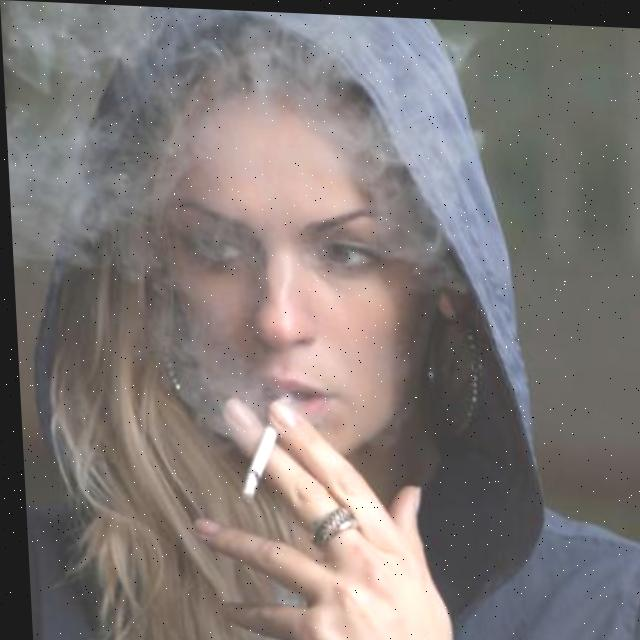cigarette: (235, 421, 276, 506)
